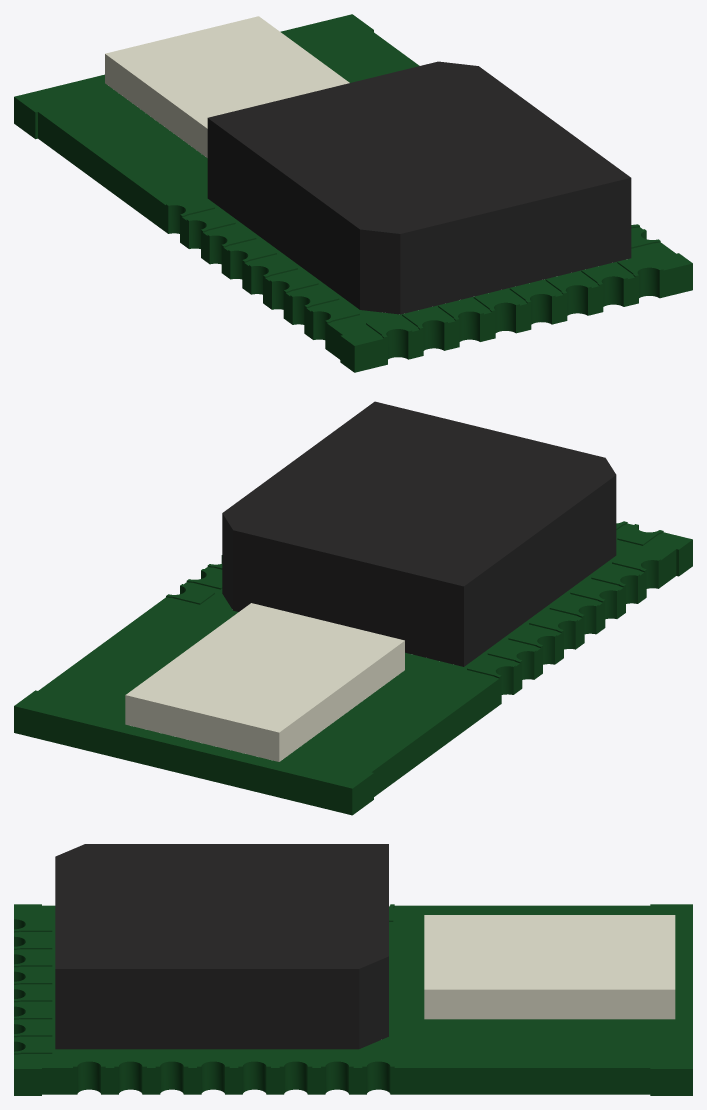
File: kc-dwm1000.glb
3 renders of one model, top to bottom at view 1: azimuth 30°, elevation 25°; view 2: azimuth 150°, elevation 25°; view 3: azimuth 270°, elevation 25°, orthographic.
Parts seen in each view (by area): view 1: 0_0_0_0, 0_0.08333333333333333_0_0, 0.75_0.75_0.6666666666666666_0; view 2: 0_0_0_0, 0_0.08333333333333333_0_0, 0.75_0.75_0.6666666666666666_0; view 3: 0_0_0_0, 0_0.08333333333333333_0_0, 0.75_0.75_0.6666666666666666_0.
Boxes of the visible parts, box(x1,y1,x2,y2) form: 0_0_0_0: box(207, 61, 631, 314); 0_0.08333333333333333_0_0: box(14, 14, 692, 372); 0.75_0.75_0.6666666666666666_0: box(105, 16, 349, 157); 0_0_0_0: box(222, 401, 616, 666); 0_0.08333333333333333_0_0: box(14, 521, 692, 815); 0.75_0.75_0.6666666666666666_0: box(125, 603, 404, 761); 0_0_0_0: box(55, 844, 388, 1049); 0_0.08333333333333333_0_0: box(14, 904, 692, 1095); 0.75_0.75_0.6666666666666666_0: box(424, 915, 675, 1019).
Bounding box in the file's own units: 1.32 × 0.4 × 2.3.
